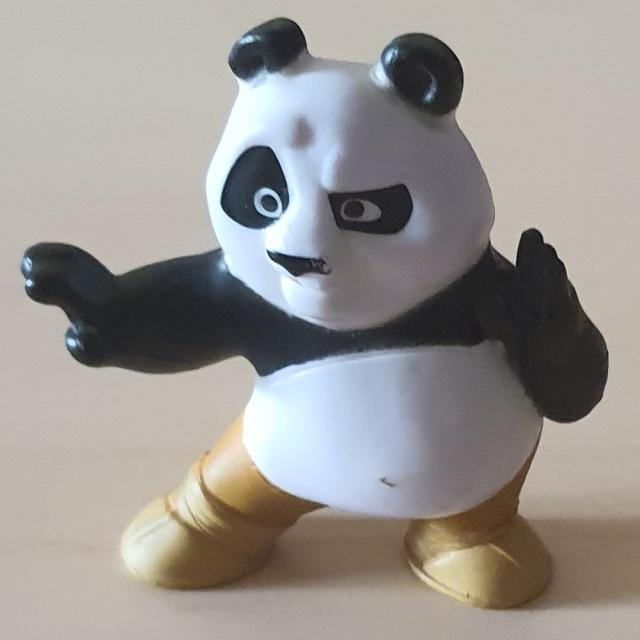Panda: (20, 16, 609, 610)
